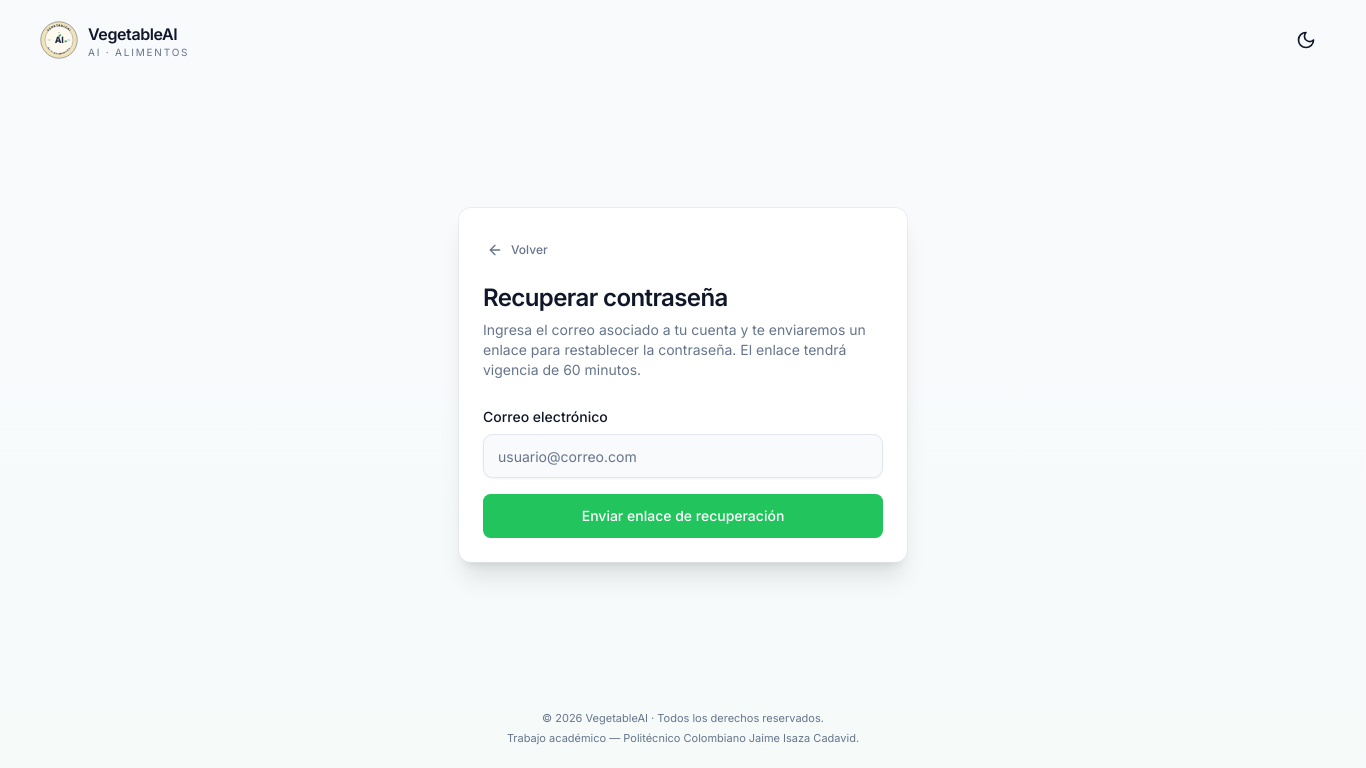
it: Módulo: Autenticación › solicita la recuperación de contraseña
Step 1. Type "demo@vegetableai.app" into the field with id "email" → (683, 456), box [483,434,883,478]
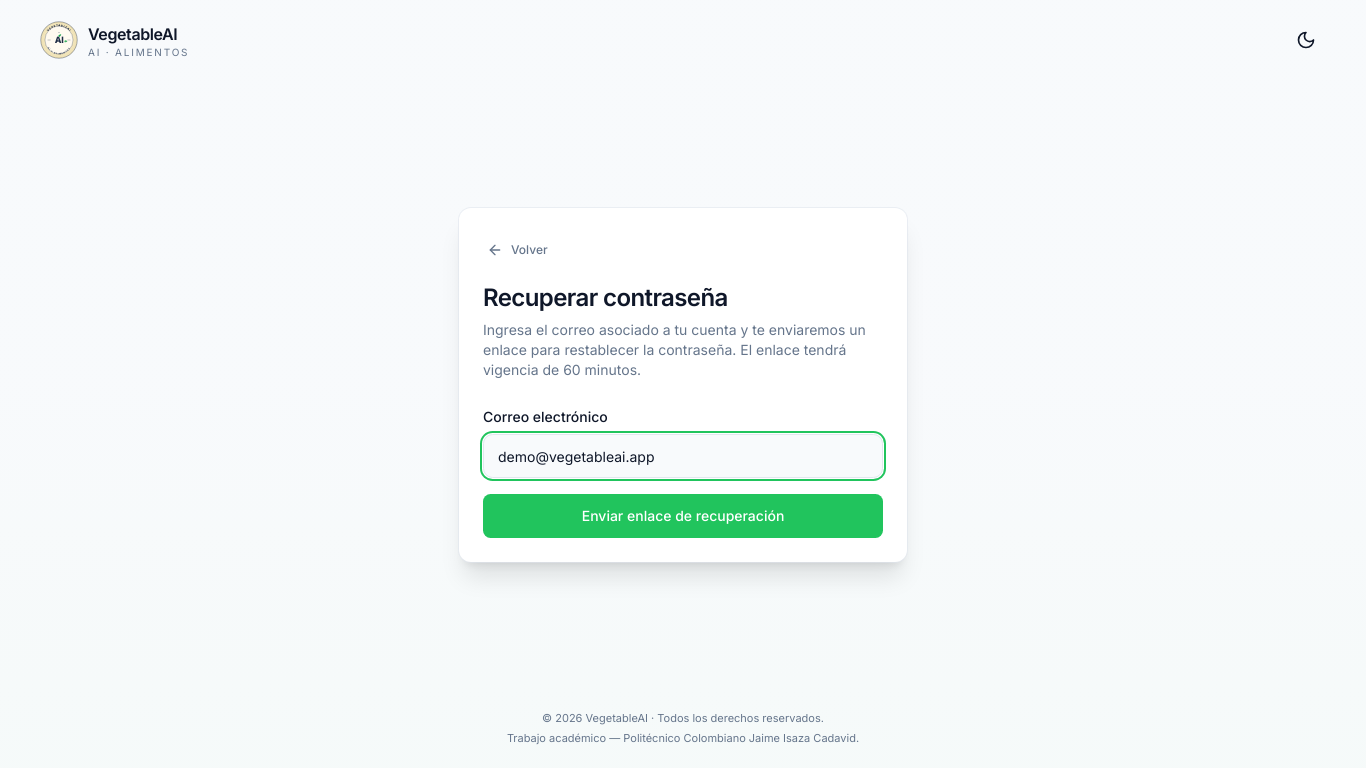
Step 2. Click the button "Enviar enlace de recuperación" → (683, 516), box [483,494,883,538]
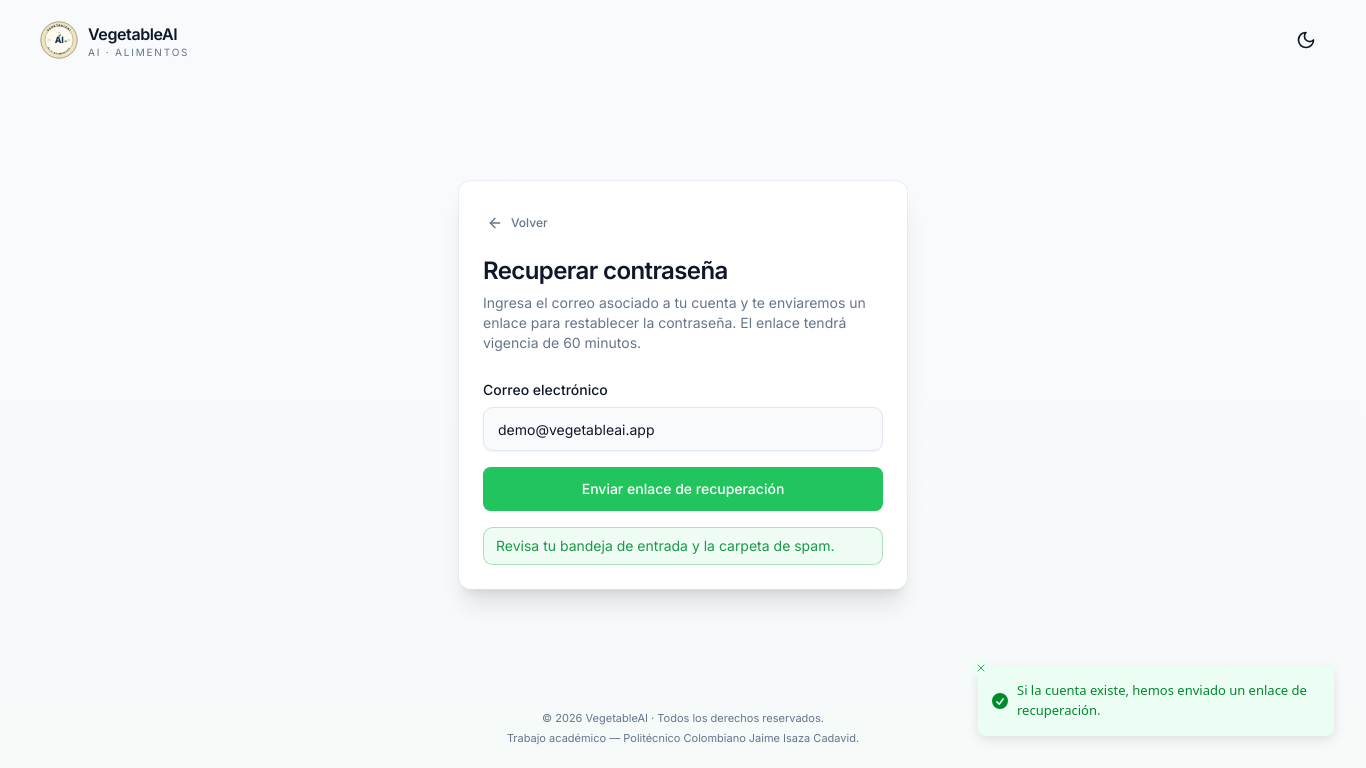
Now the text "Revisa tu bandeja de entrada" is shown, box [496,537,834,554]
